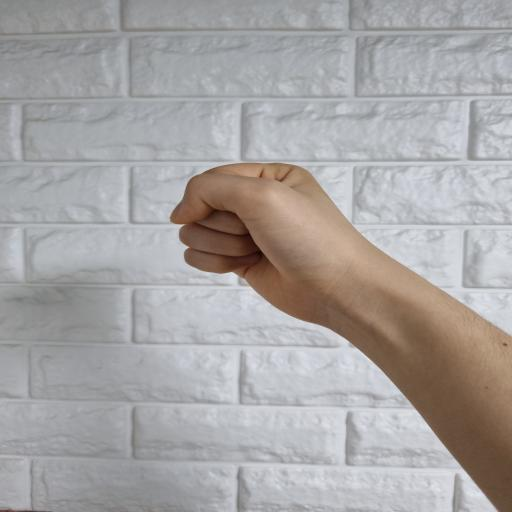Rock: (169, 161, 512, 512)
